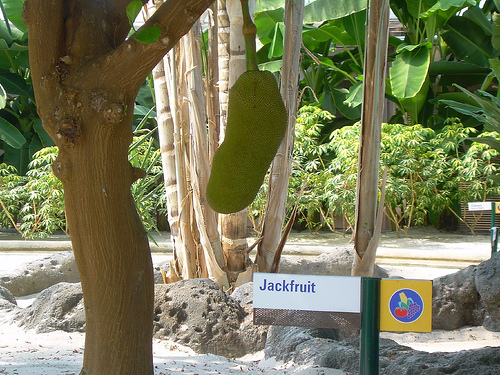jackfruit: (205, 70, 288, 216)
